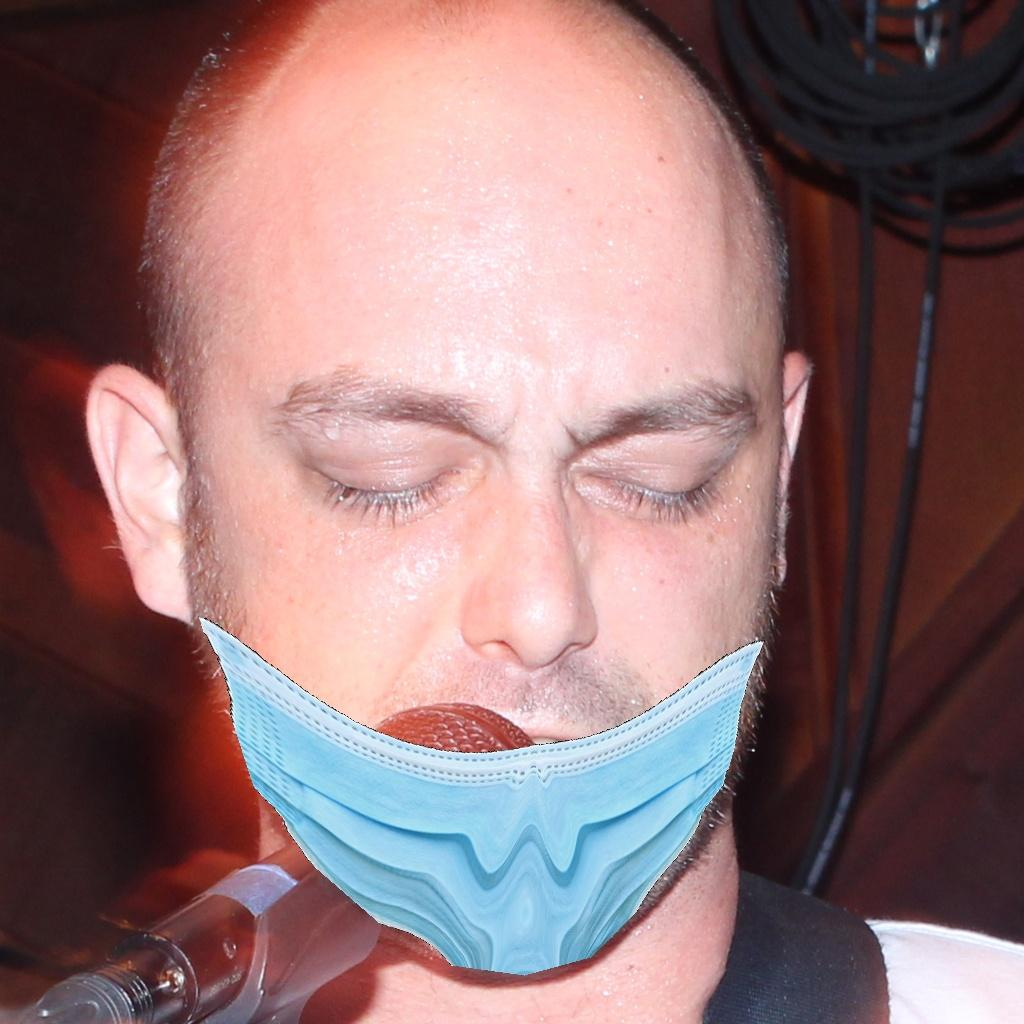Máscara Incorreta: (167, 183, 805, 955)
